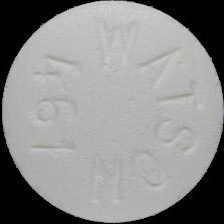16590-287: (0, 0, 224, 224)
